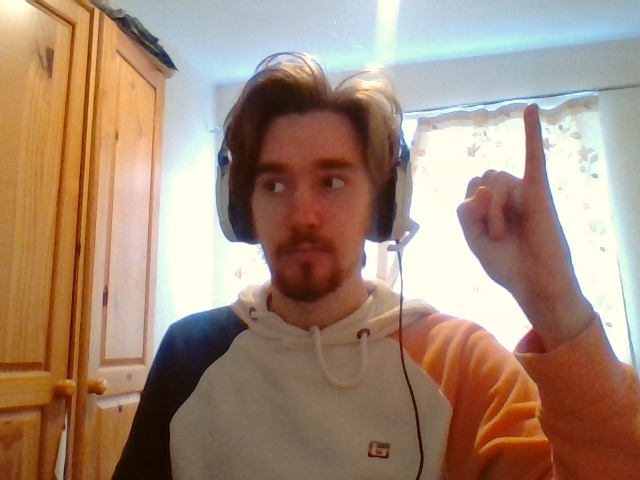bad: (458, 102, 568, 292)
